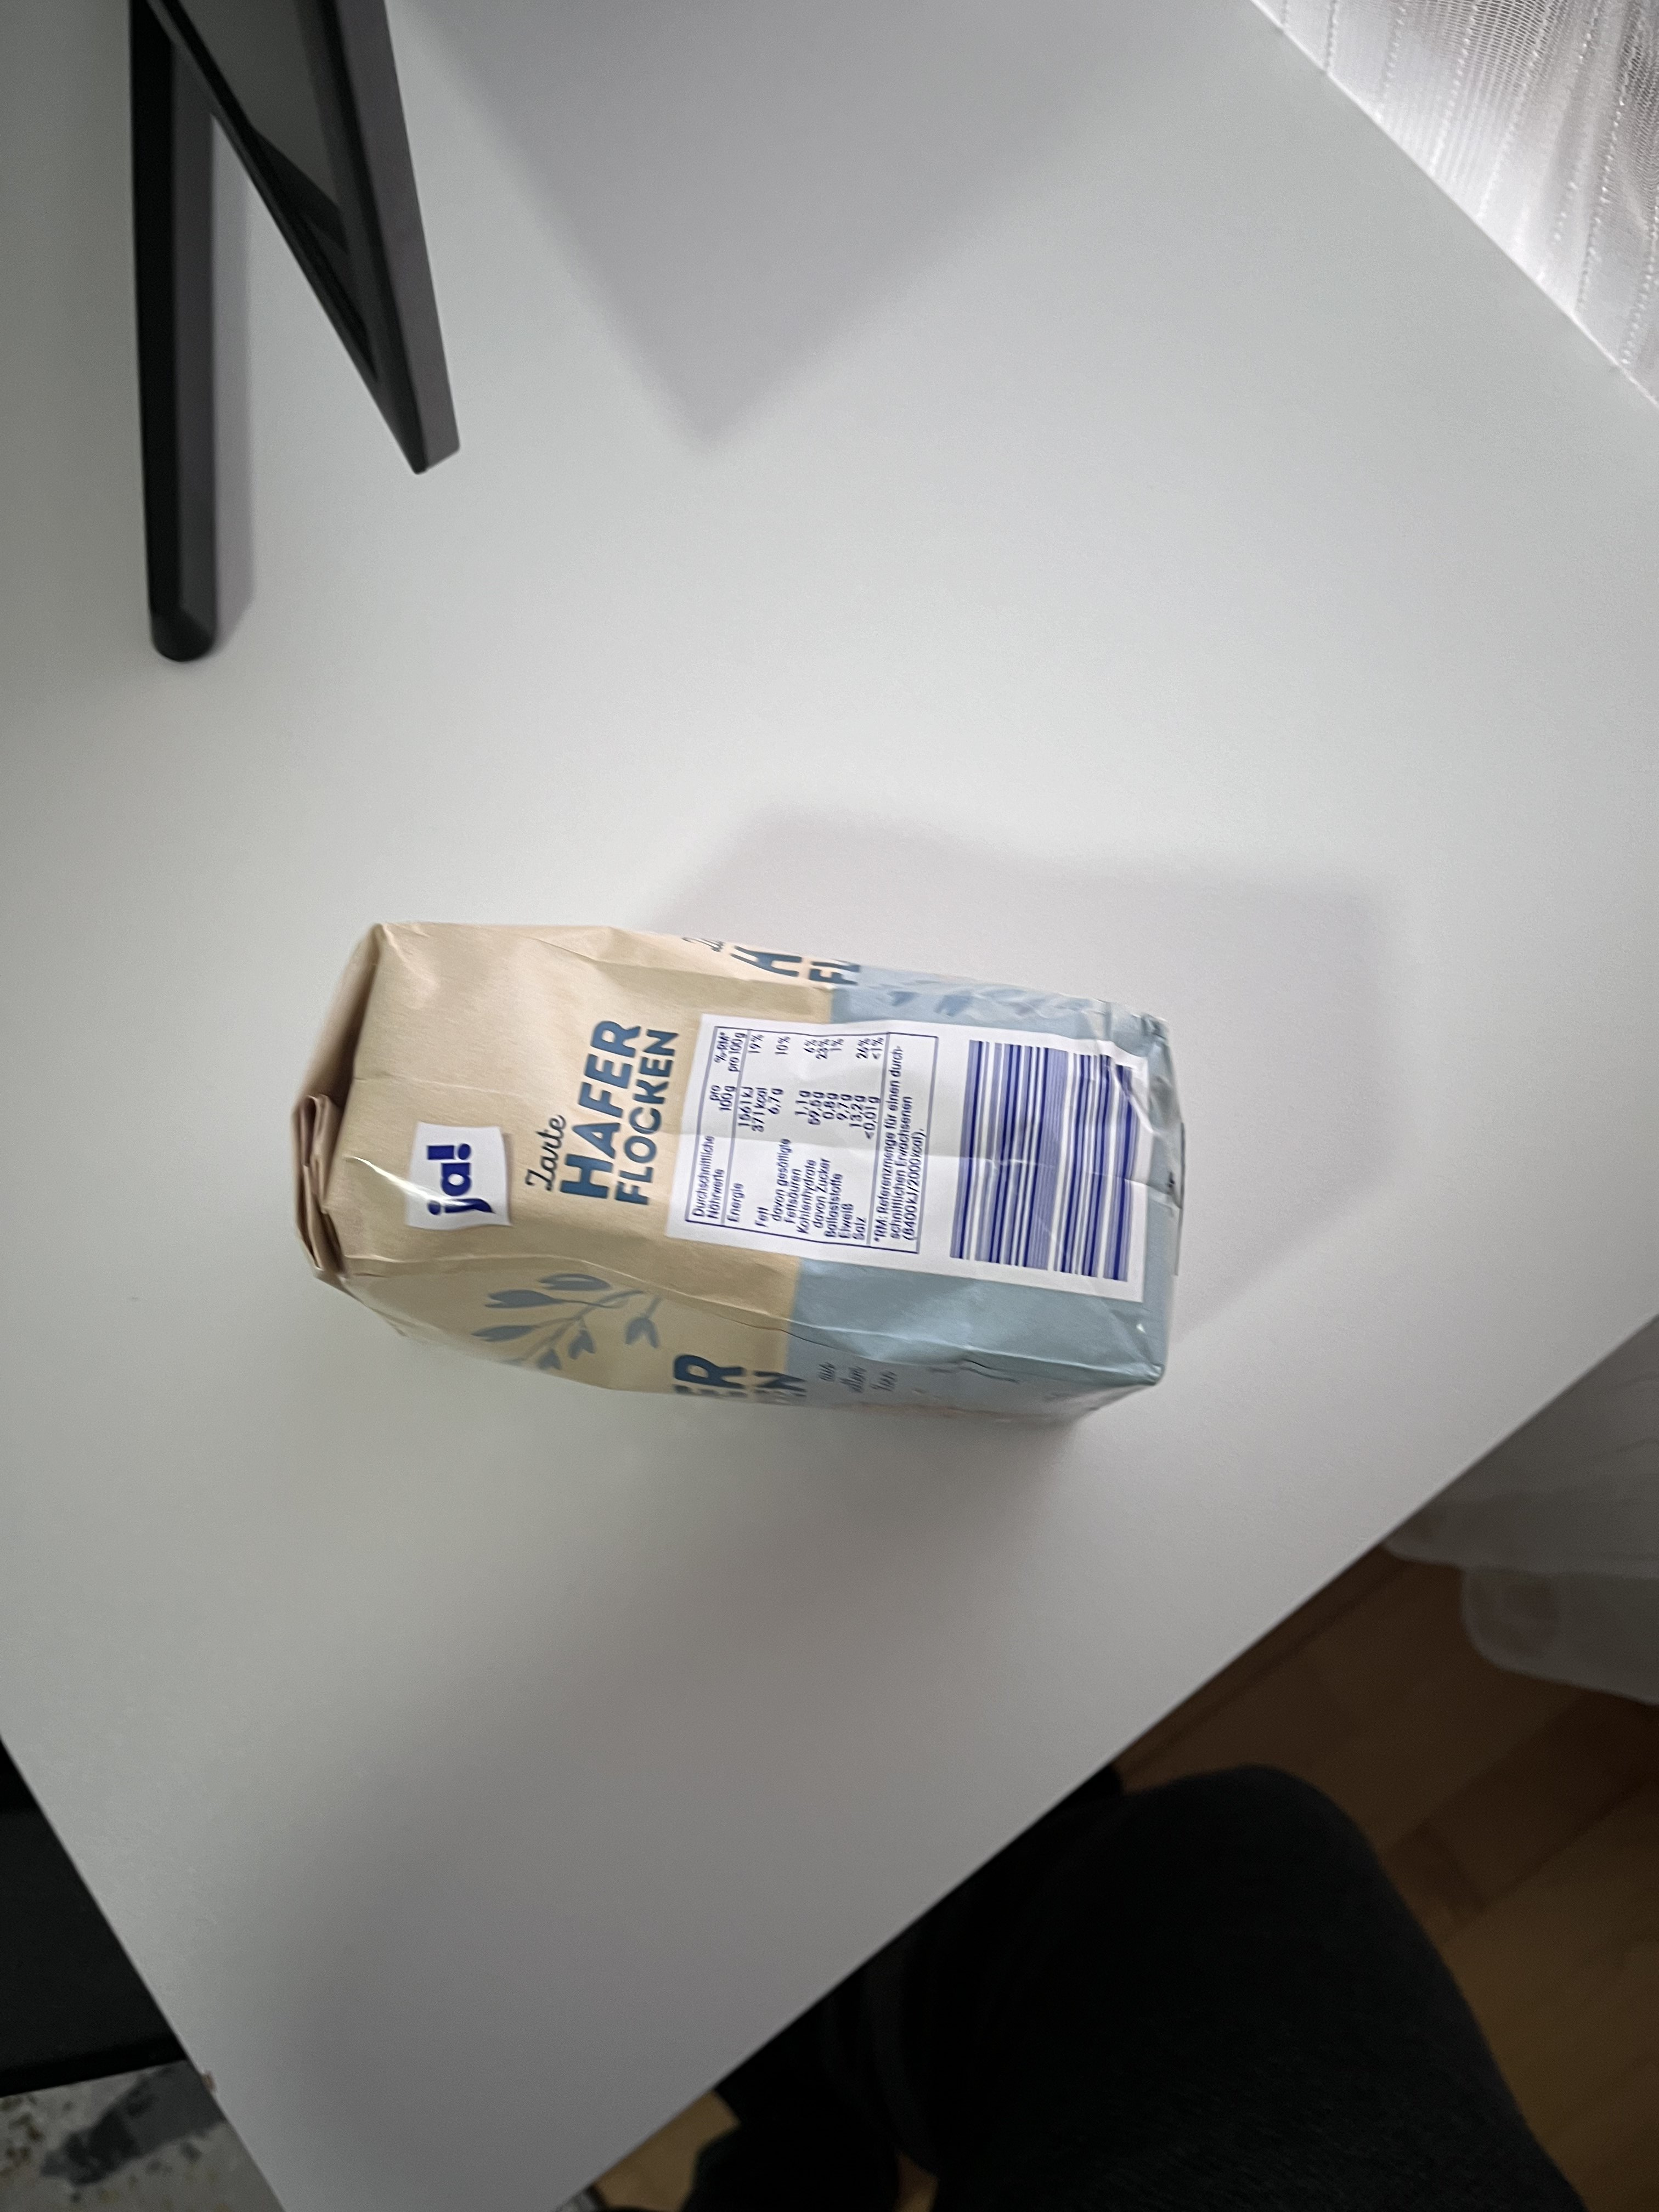haferflocken_ja: (286, 920, 1183, 1437)
